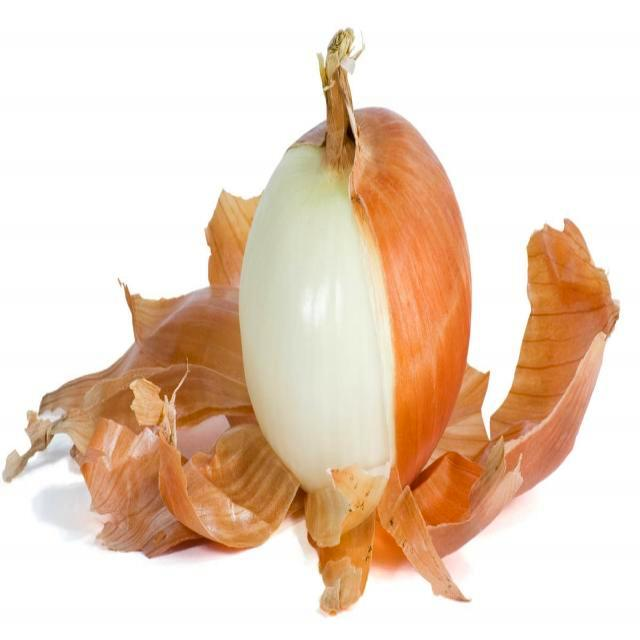onion: (240, 51, 475, 523)
